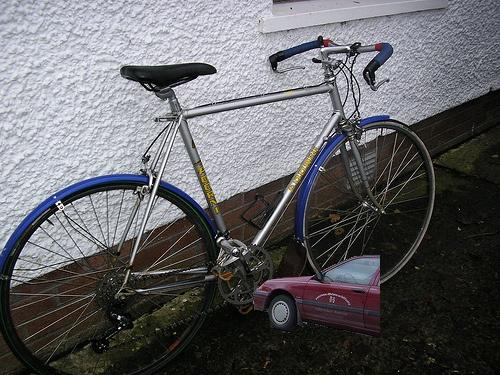tampered: (254, 256, 380, 338)
